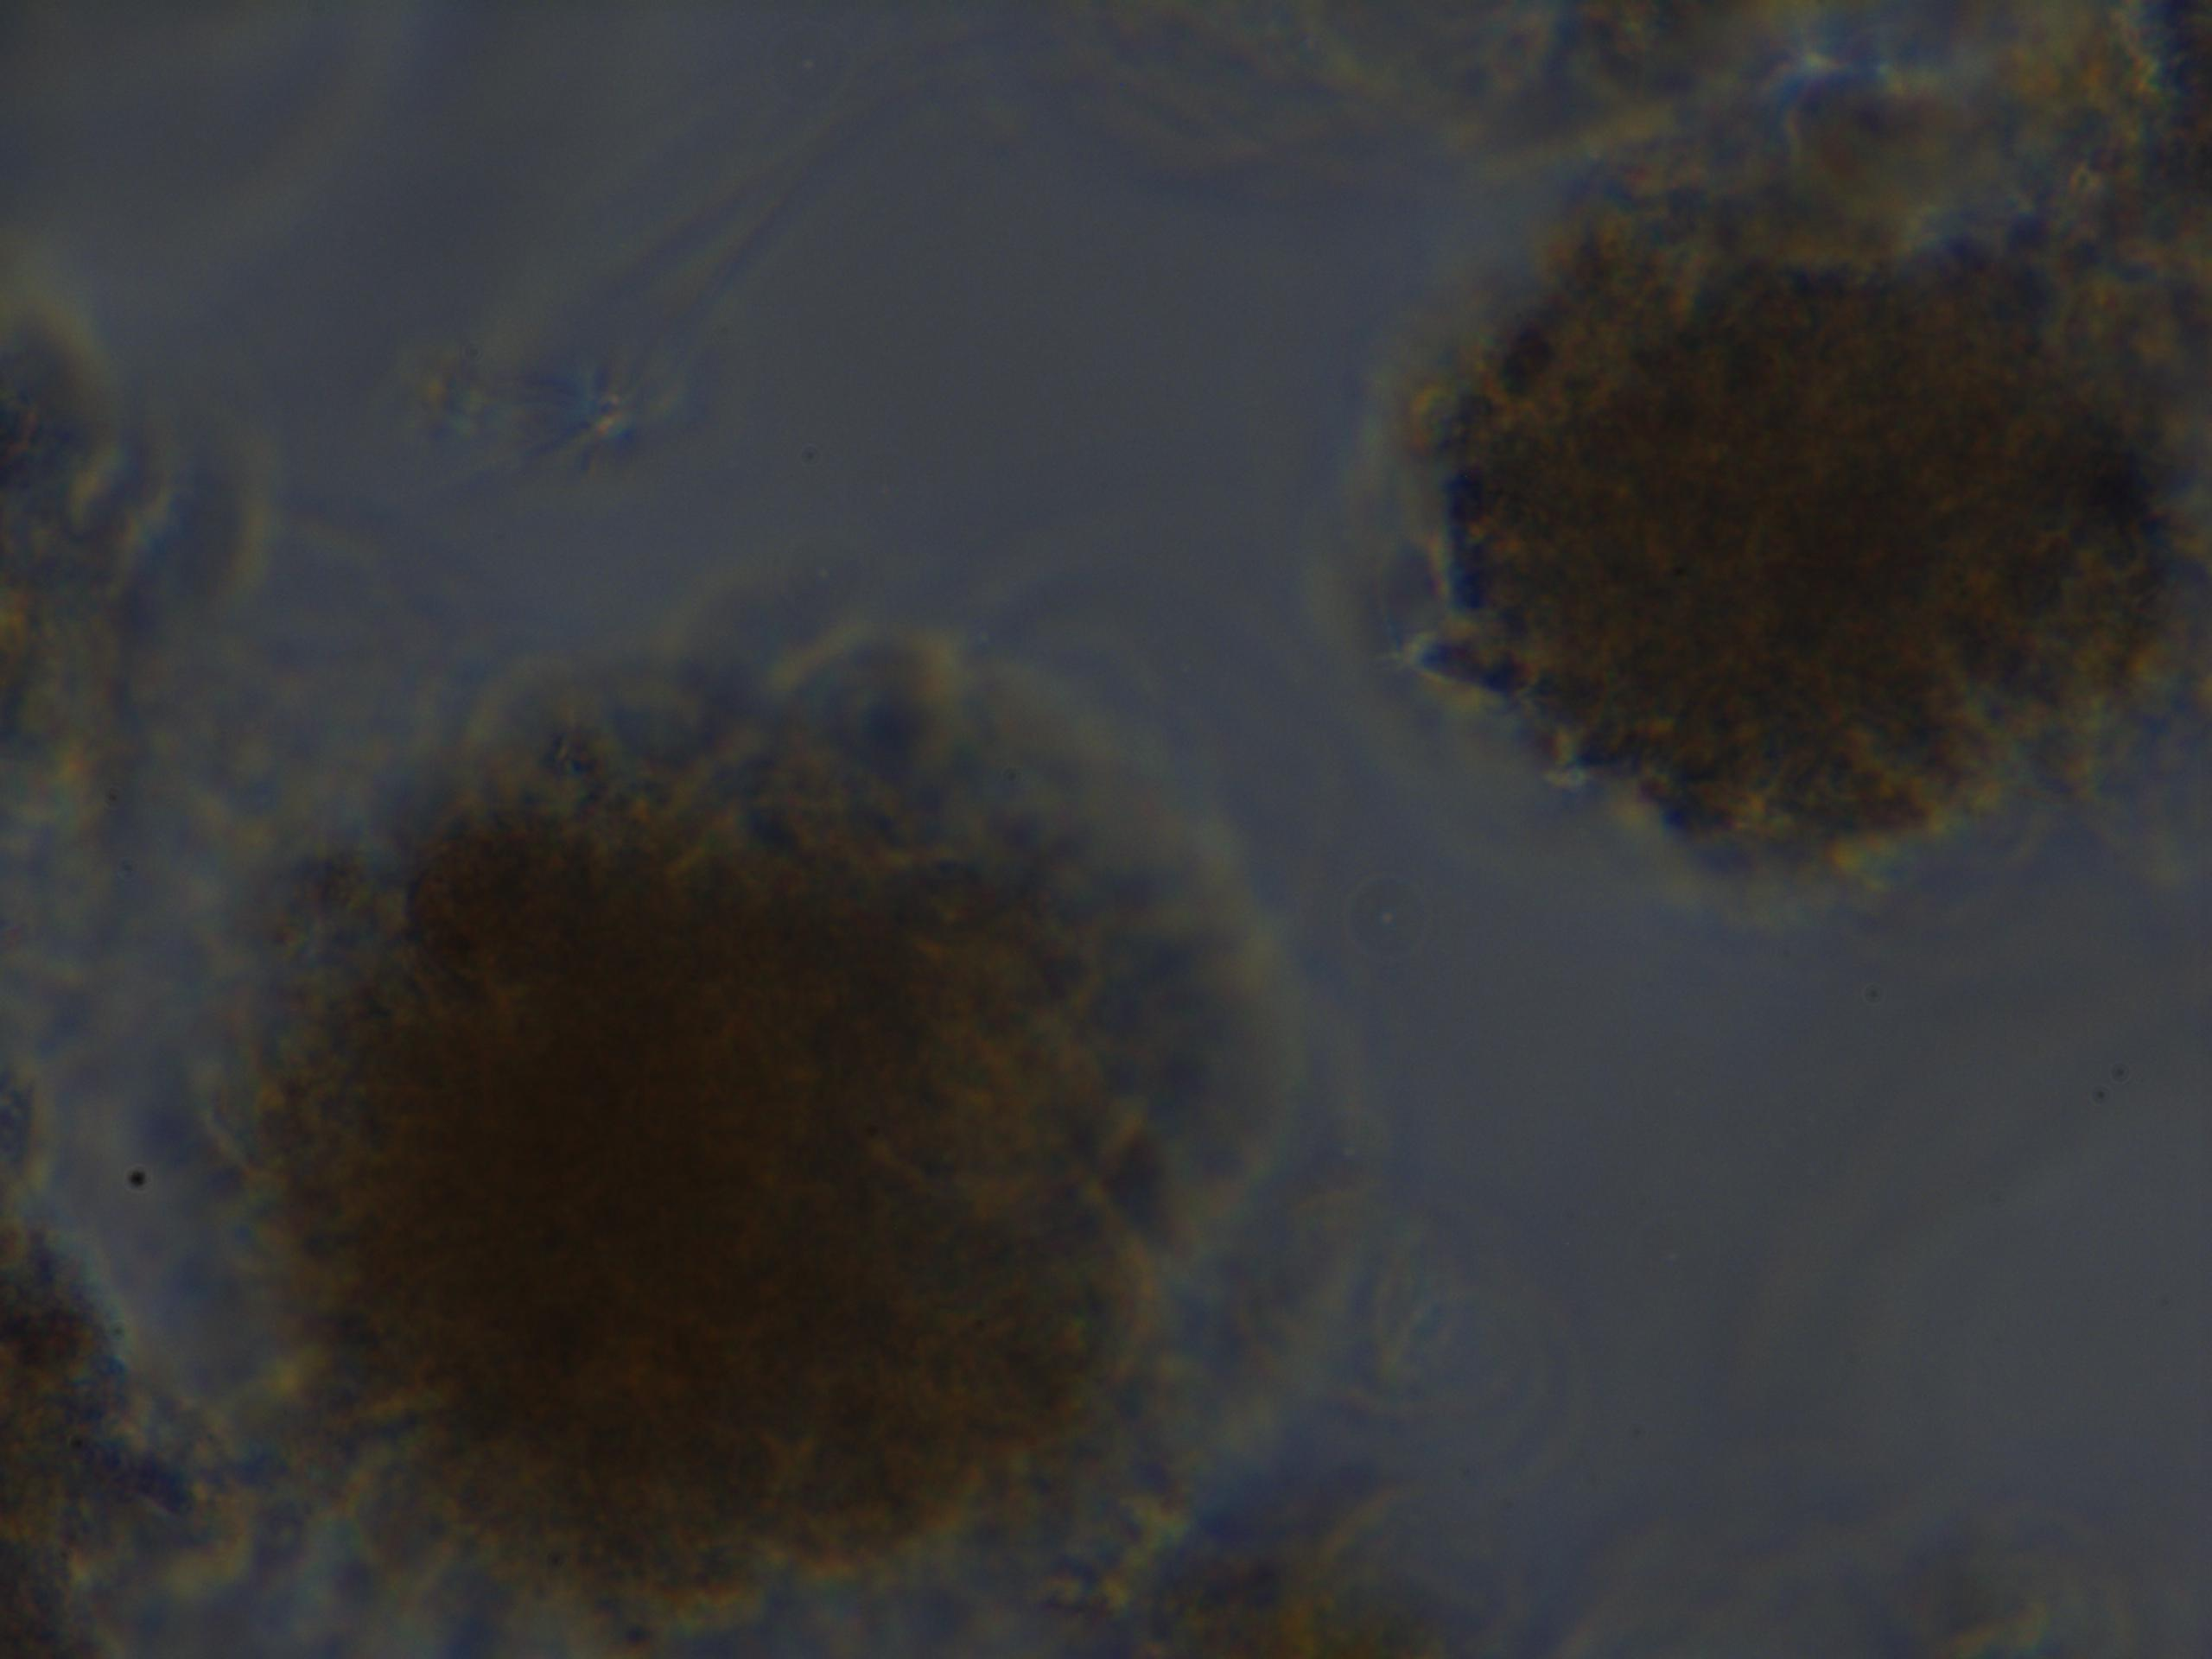spherical_floc: (230, 709, 1174, 1636), (1409, 200, 2212, 884)
